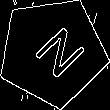N_SW: (21, 20, 84, 84)
